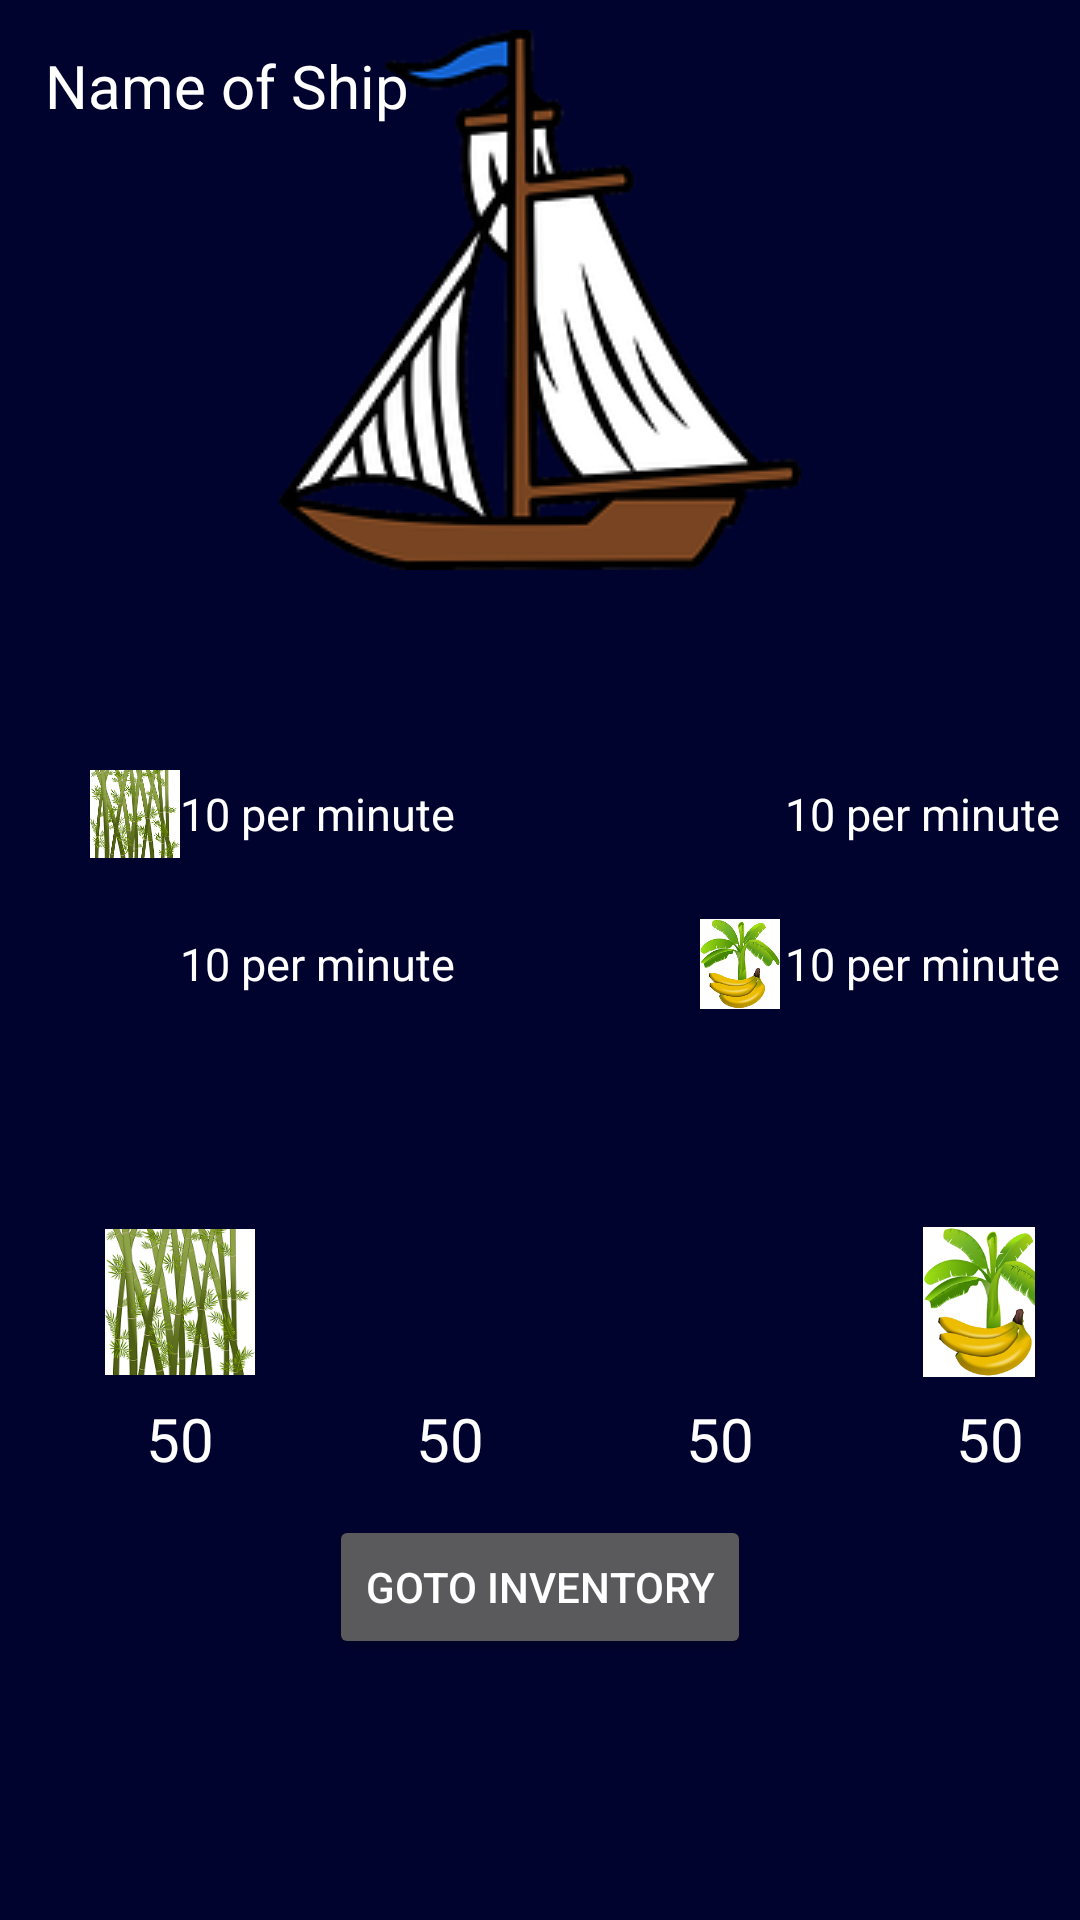

Icons on this 1080 x 1920 Android screen, each with the point to tap as (x,y):
bamboo: (135,814), (180,1302)
